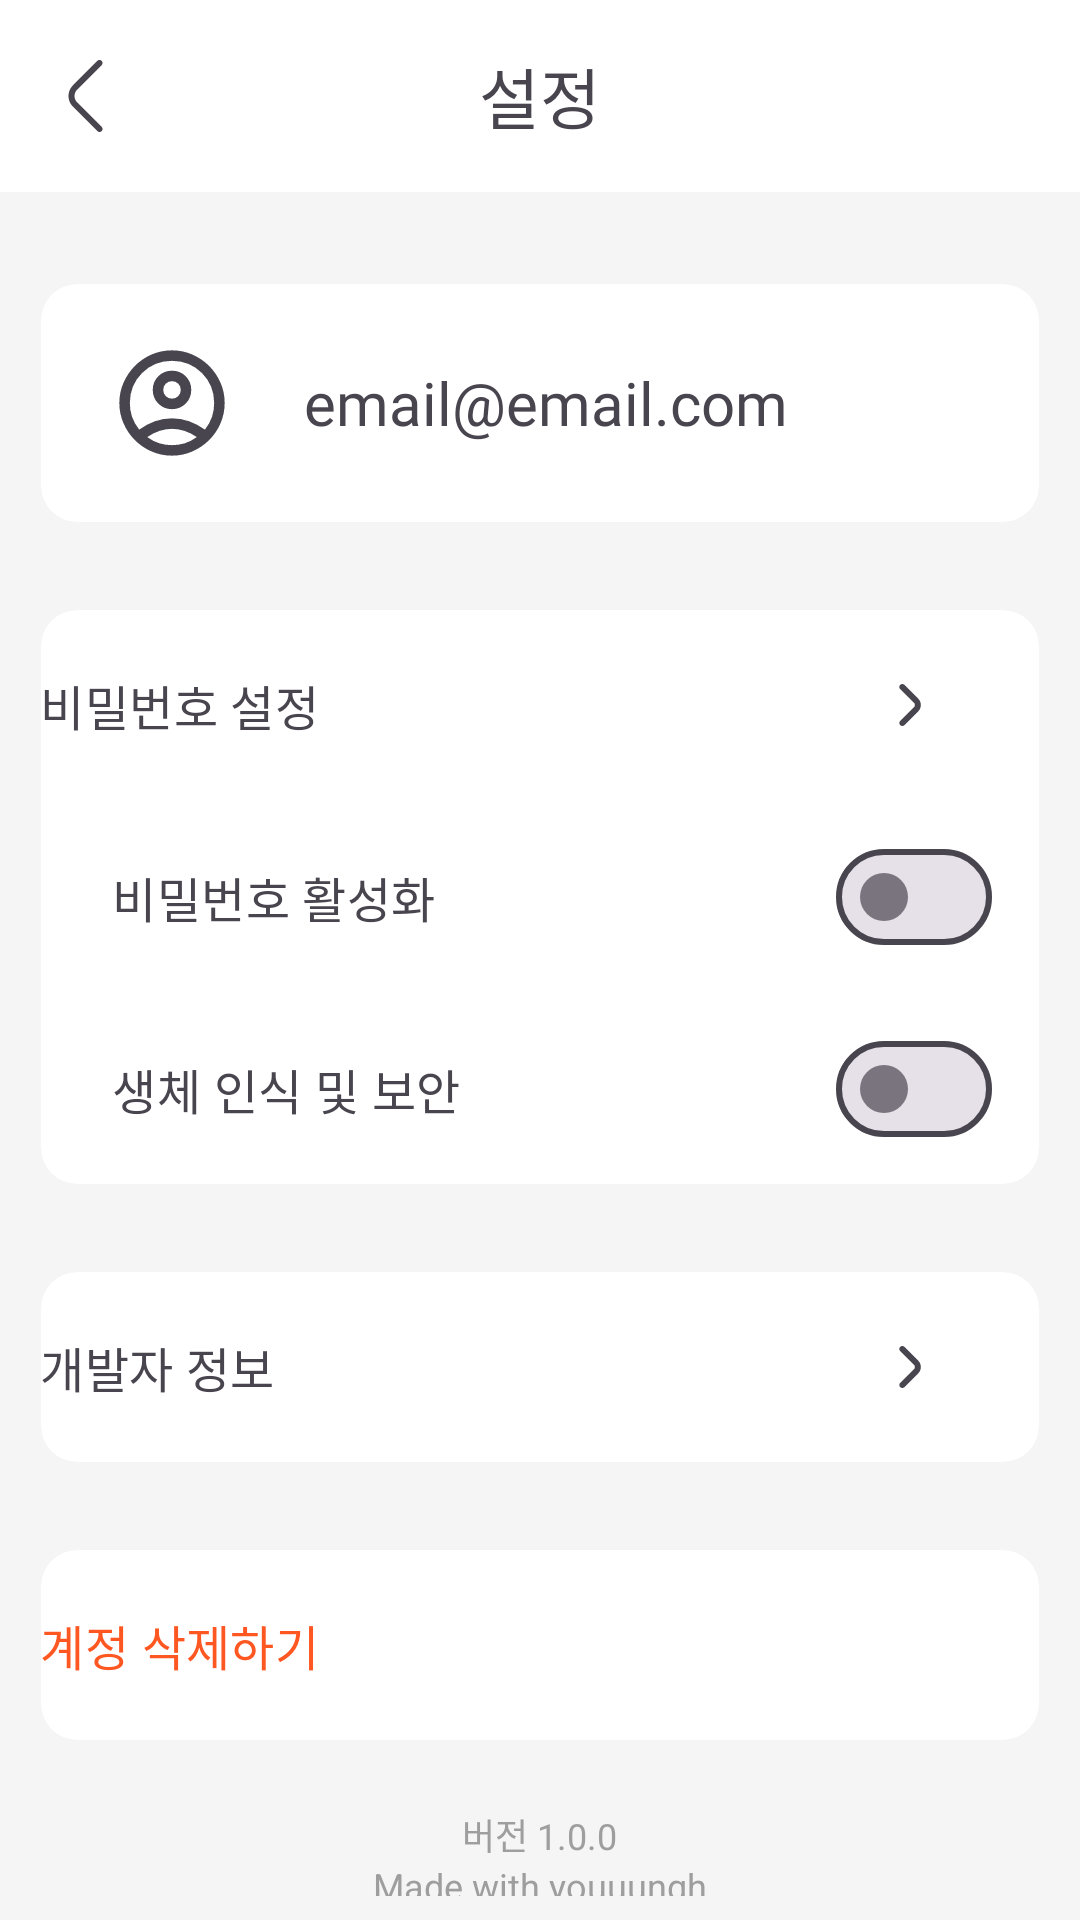

Named icons in this screenshot (1080 x 1920) and their centers, (x,y):
account circle: (172,403)
arrow right: (910,705), (910,1367)
